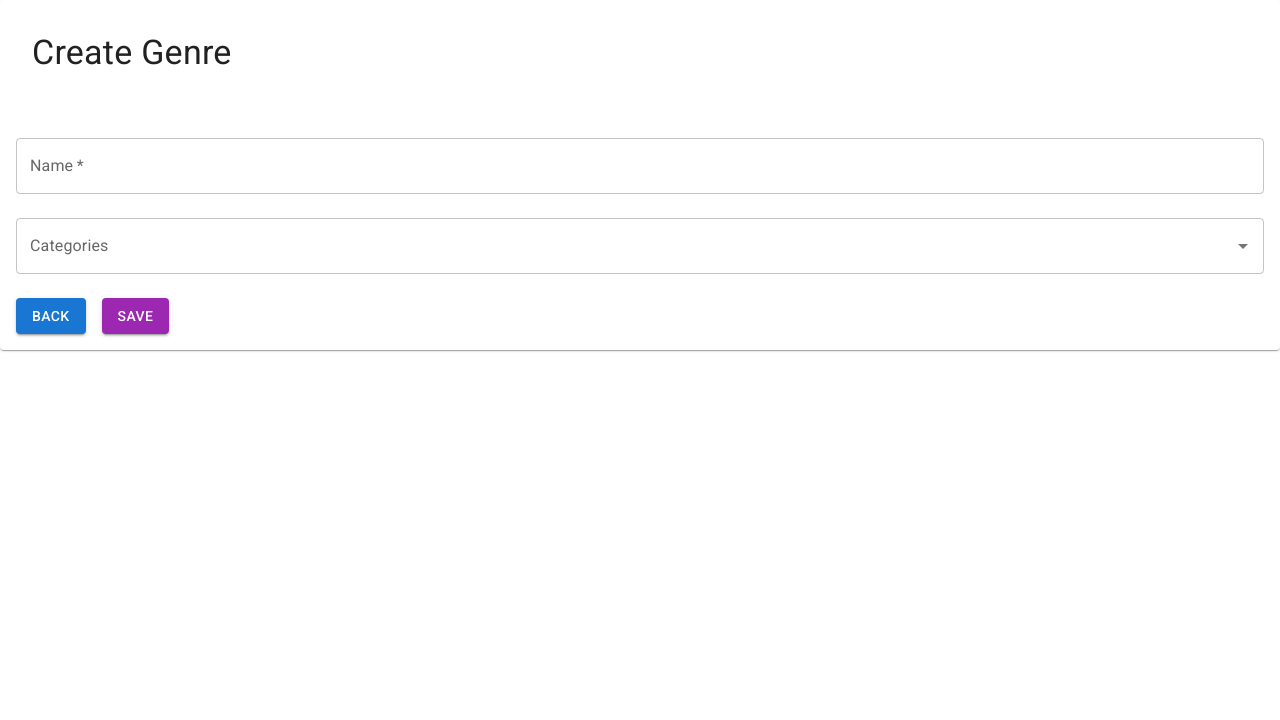
CreateGenre › should handle submit
The image size is (1280, 720).
Expected: the button "Save" is shown, [102,298,169,334]
Type "test" into the field with test id "name" at (640, 166), box [16,138,1264,194]
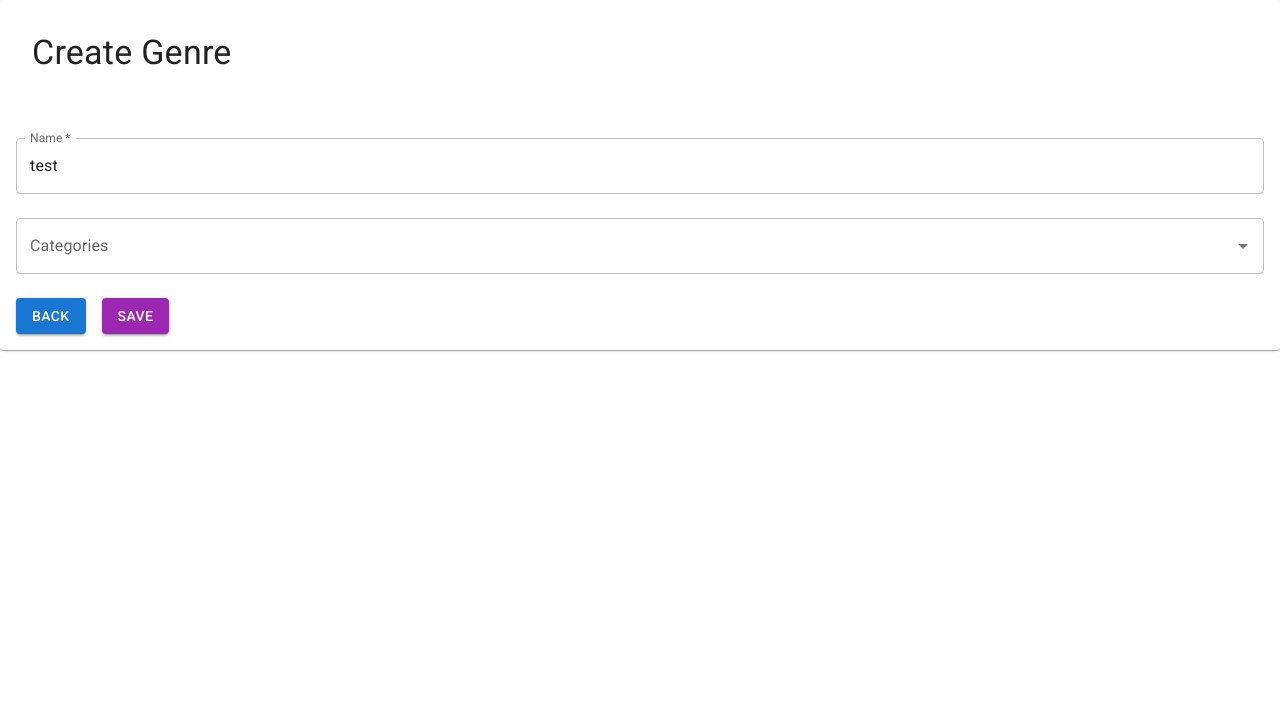
Click the button "Save" at (136, 316), box [102,298,169,334]
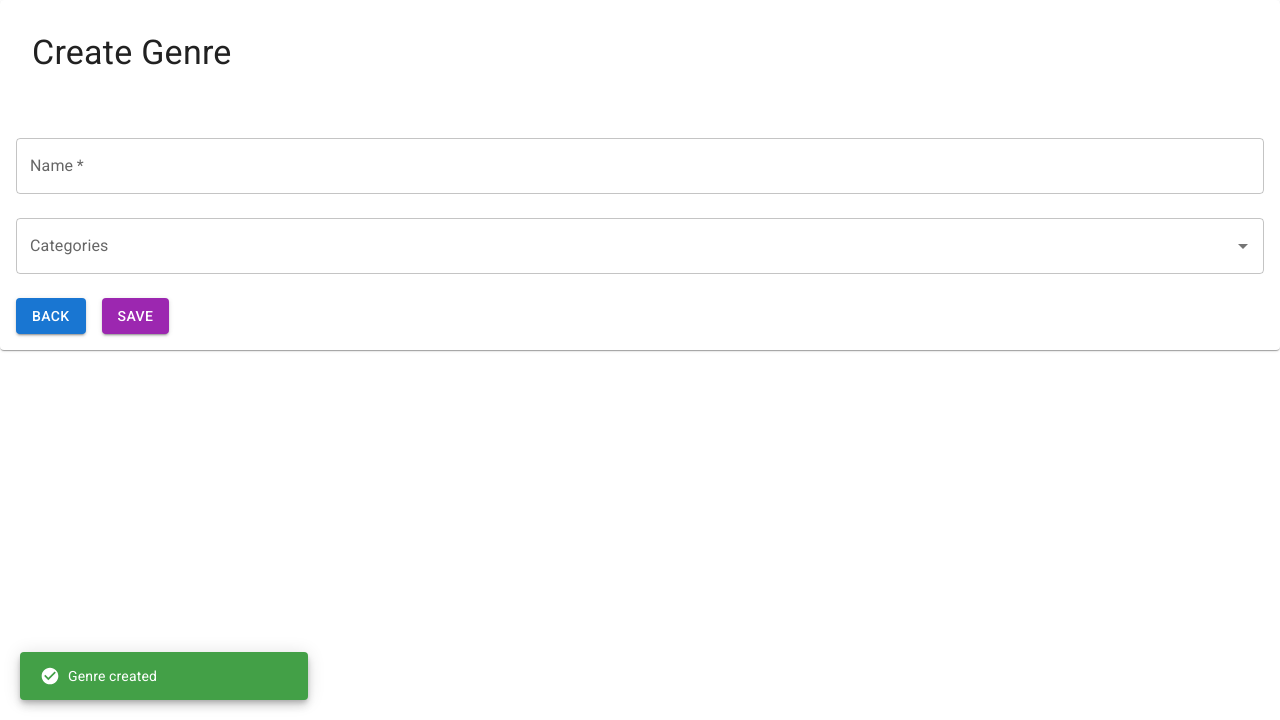
Expected: the text "Genre created" is shown, [40,666,157,686]
